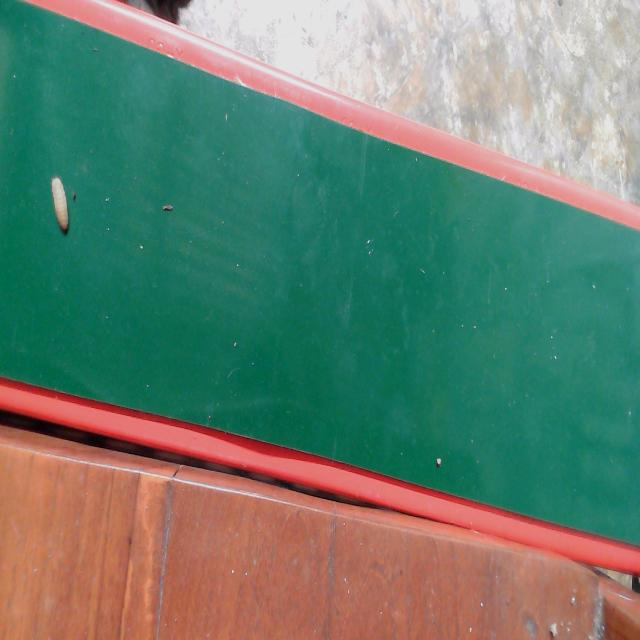Maggot: (49, 176, 75, 237)
